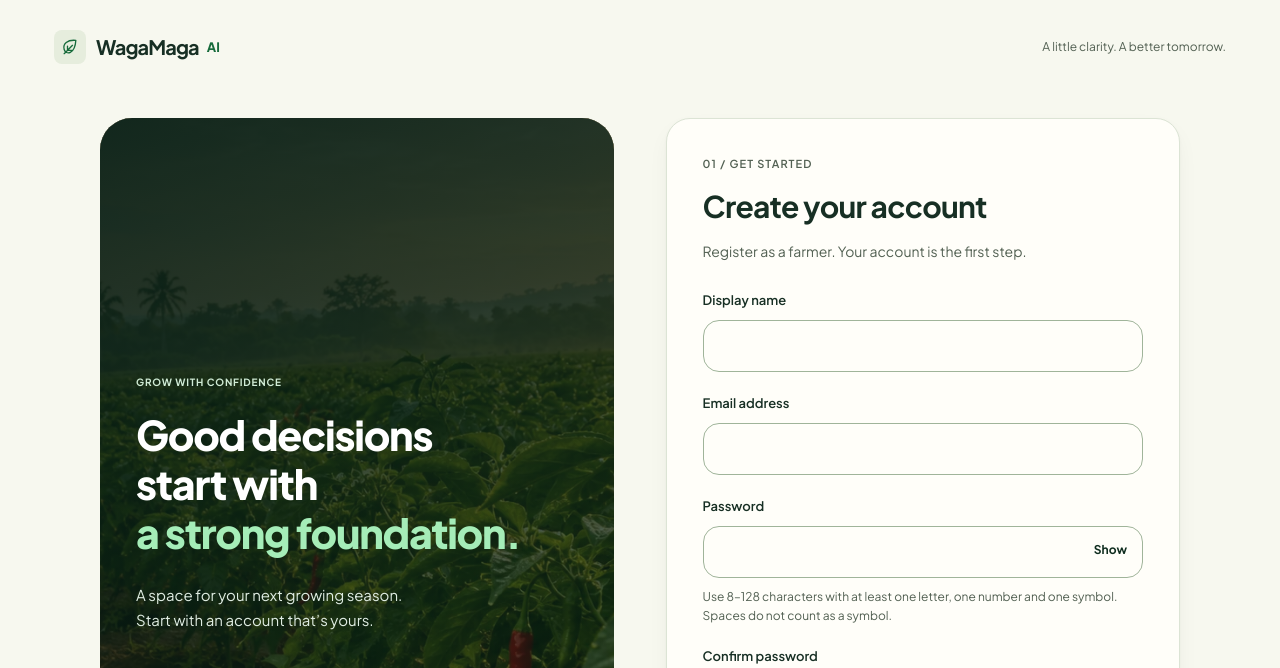
it: account entry forms › registers only account inputs and returns to login without signing in
Type "Synthetic farmer" into the field labelled "Display name" at (923, 346), box [703,320,1143,372]
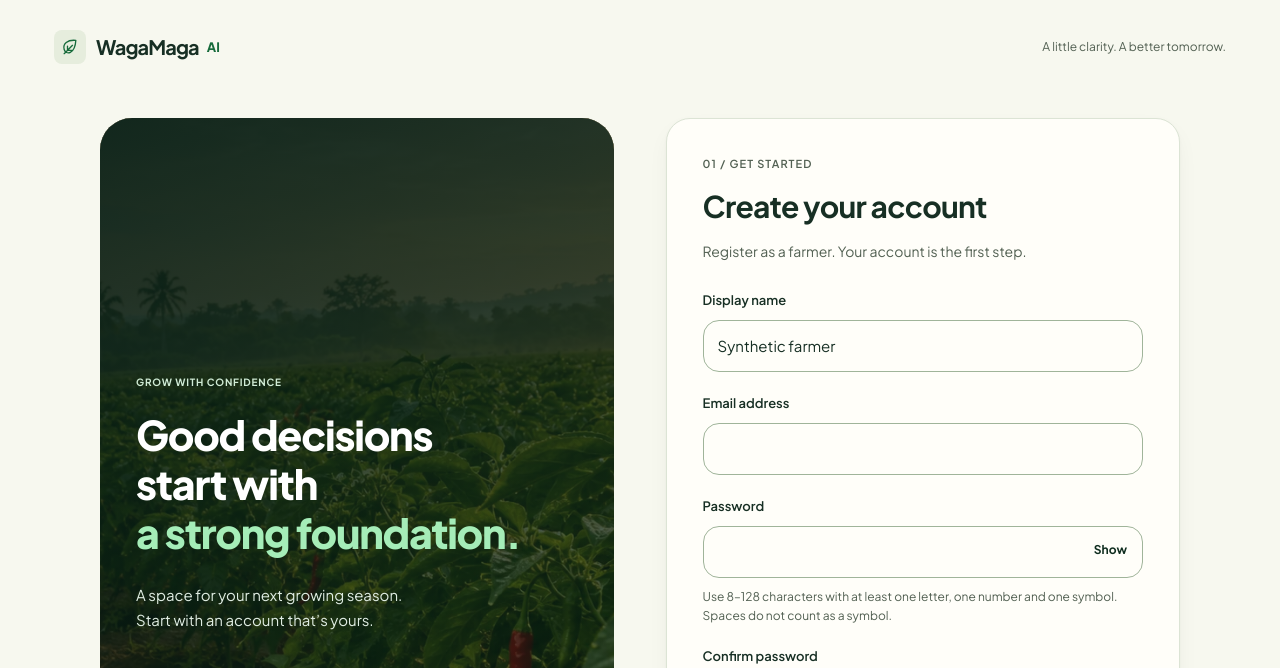
Type "farmer@example.com" into the field labelled "Email address" at (923, 449), box [703,423,1143,475]
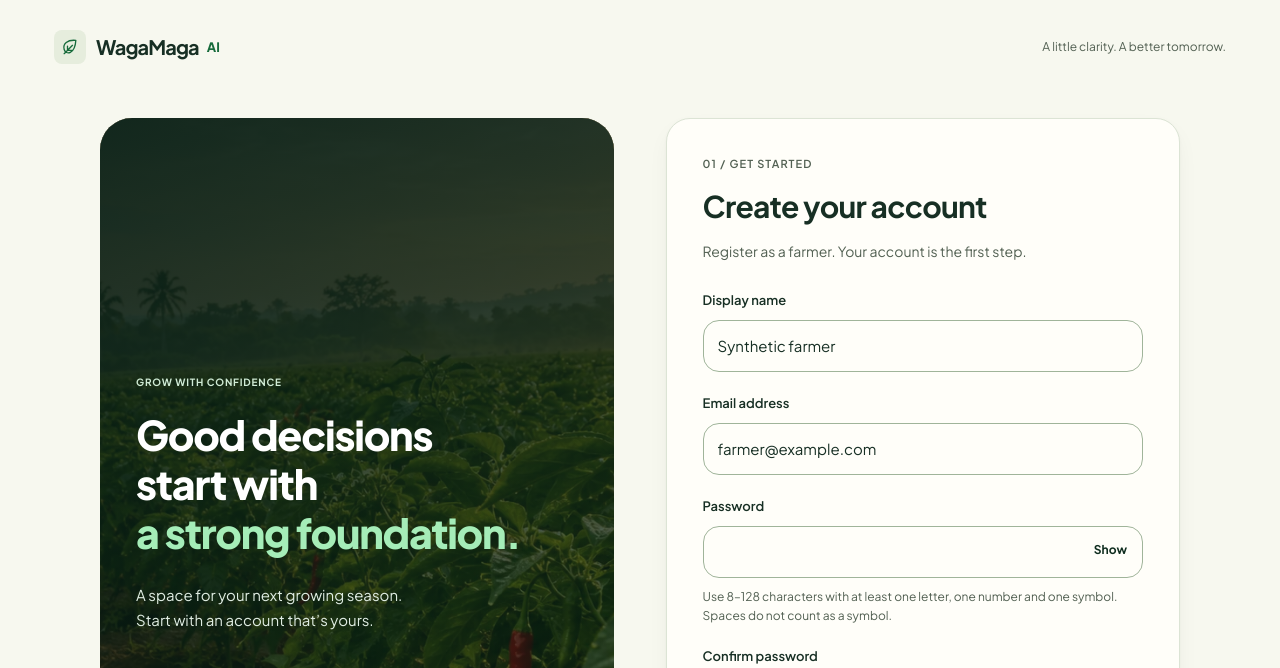
Type "a synthetic growing season password 1!" into the password field labelled "Password" at (923, 552), box [703,526,1143,578]
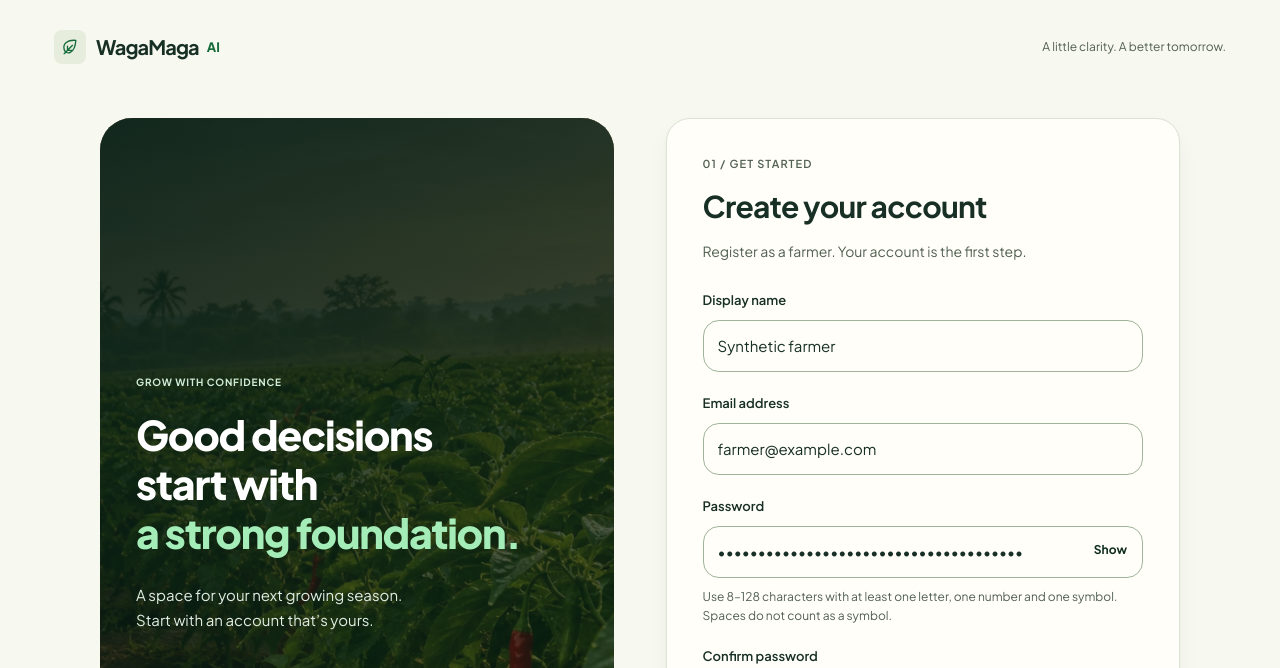
Type "Abcdef1!" into the password field labelled "Password" at (923, 552), box [703,526,1143,578]
(page scrolled)
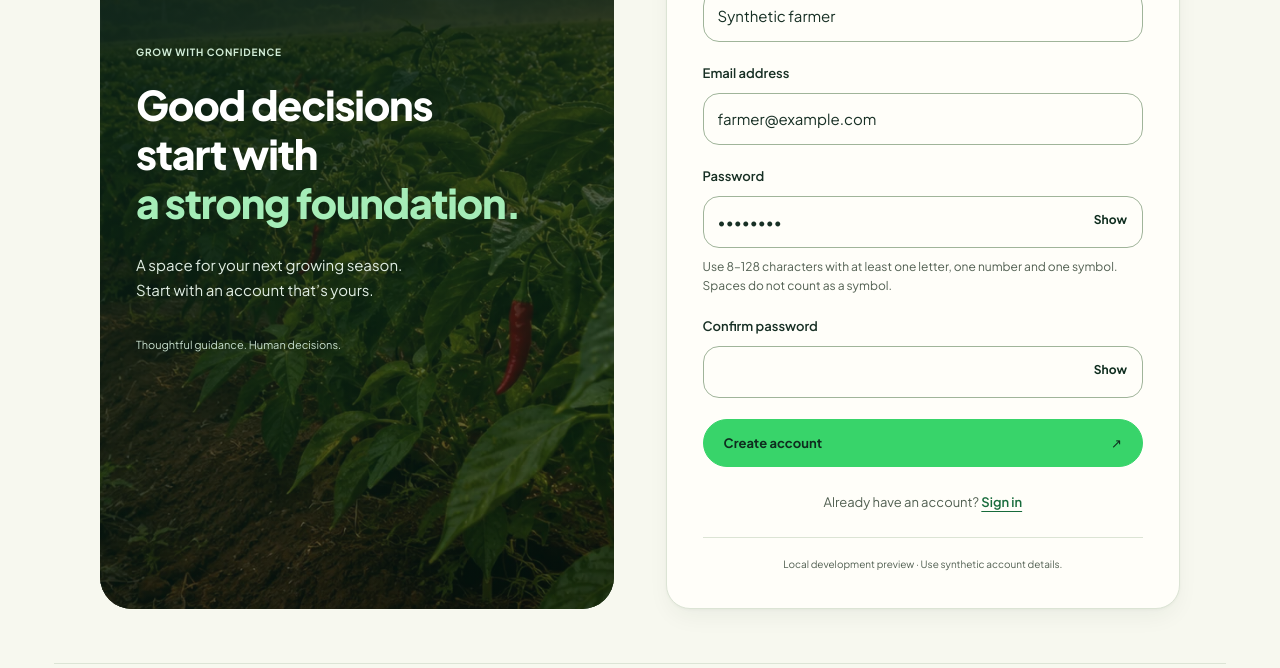
Type "Abcdef1!" into the password field labelled "Confirm password" at (923, 372), box [703,346,1143,398]
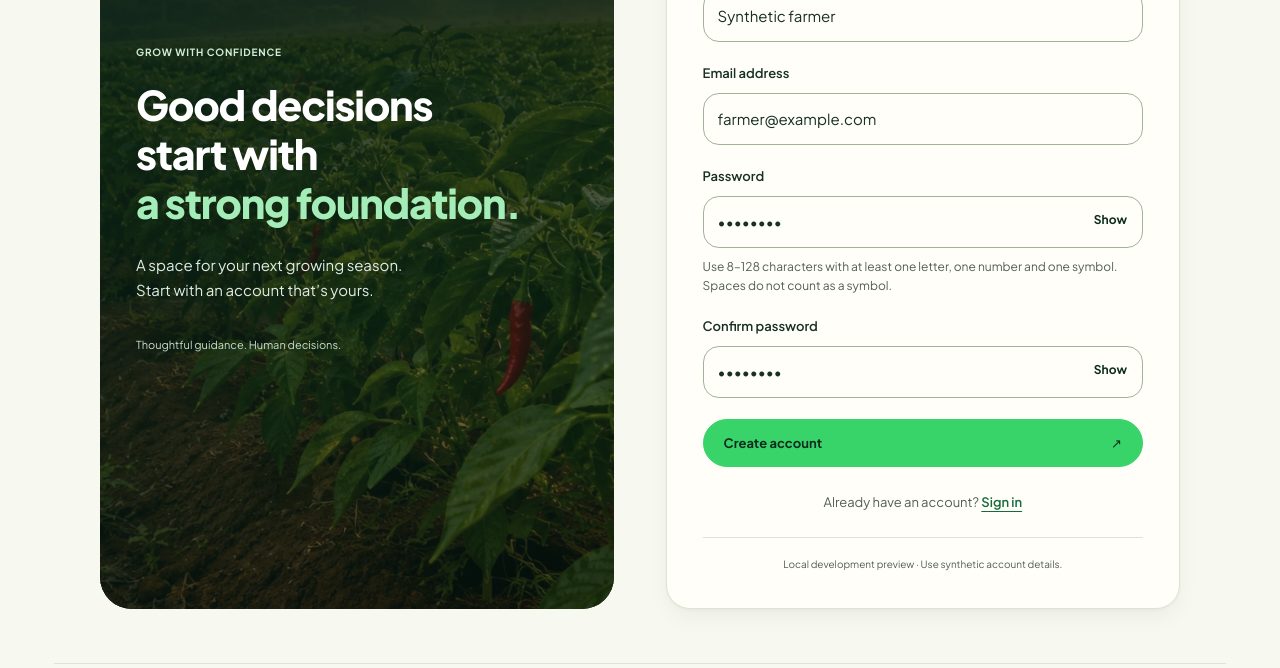
Click the button "Create account ↗" at (773, 443), box [703,419,1143,467]
(page scrolled)
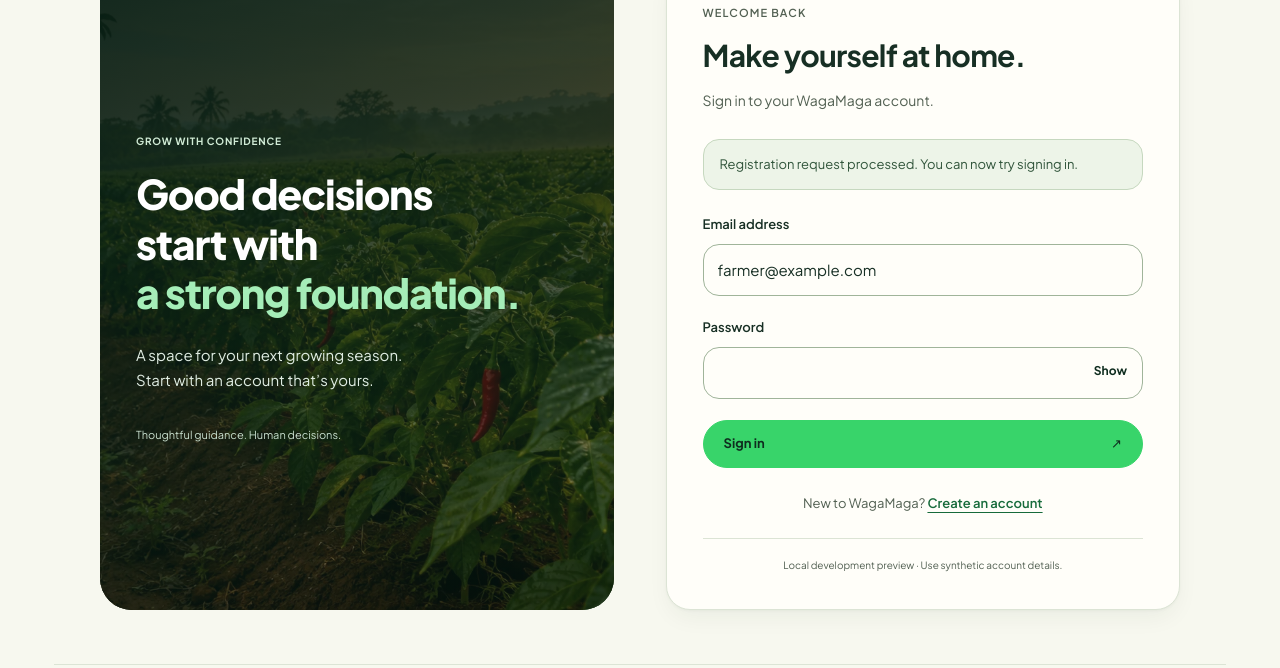
Now the heading "Make yourself at home." is shown, box [703,36,1025,74]
Now the message shows "Registration request processed", box [720,156,1078,172]
